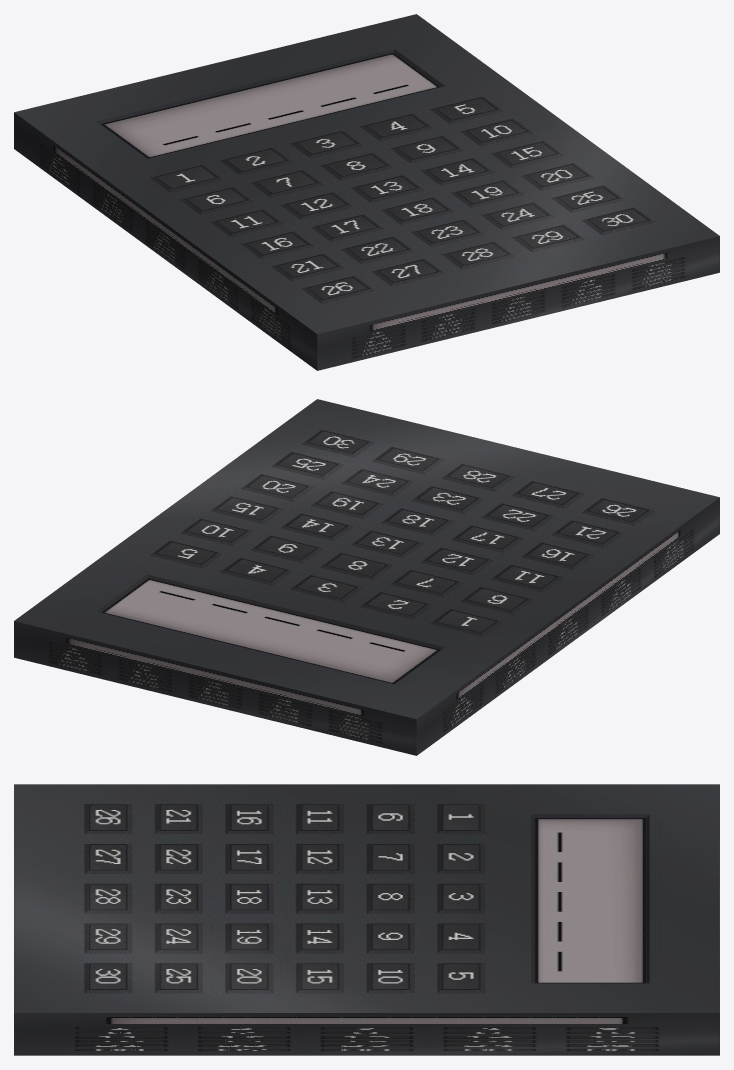
The model's file is keypad.FBX.
The picture shows the model from 3 angles, top to bottom: view 1: azimuth 30°, elevation 25°; view 2: azimuth 150°, elevation 25°; view 3: azimuth 270°, elevation 25°; orthographic projection. The views are drawn at different scales.
Visible parts, largest first — view 1: Box001; view 2: Box001; view 3: Box001.
Part boxes in pixels (<box>): Box001: <box>14,14,719,370</box>; Box001: <box>14,399,719,755</box>; Box001: <box>14,784,719,1055</box>.
Bounding box in the file's own units: 46 × 4.15 × 60.
